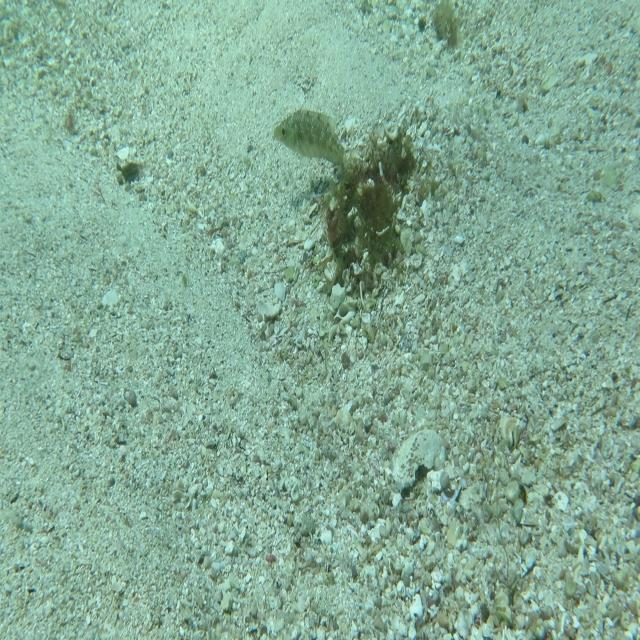SA: (274, 102, 350, 192)
core_nest: (370, 148, 406, 184)
nest: (319, 120, 418, 310)
vegetation: (432, 0, 460, 55), (120, 157, 142, 189)
